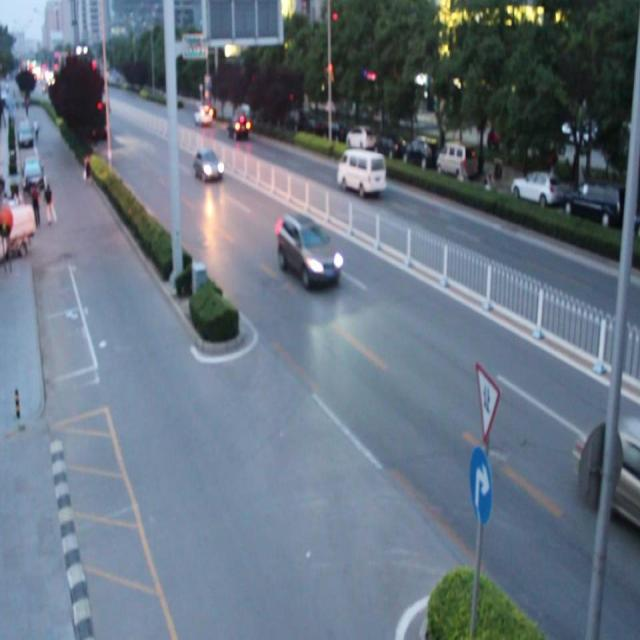car: (274, 210, 340, 292), (193, 145, 223, 182), (226, 110, 248, 136)
truck: (337, 149, 385, 197)
